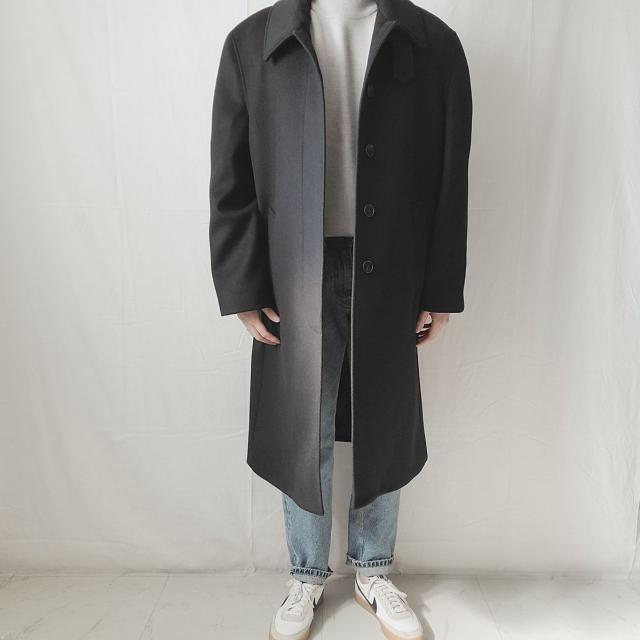coat: (207, 0, 477, 516)
denimpants: (281, 235, 402, 582)
sweater: (302, 1, 382, 237)
